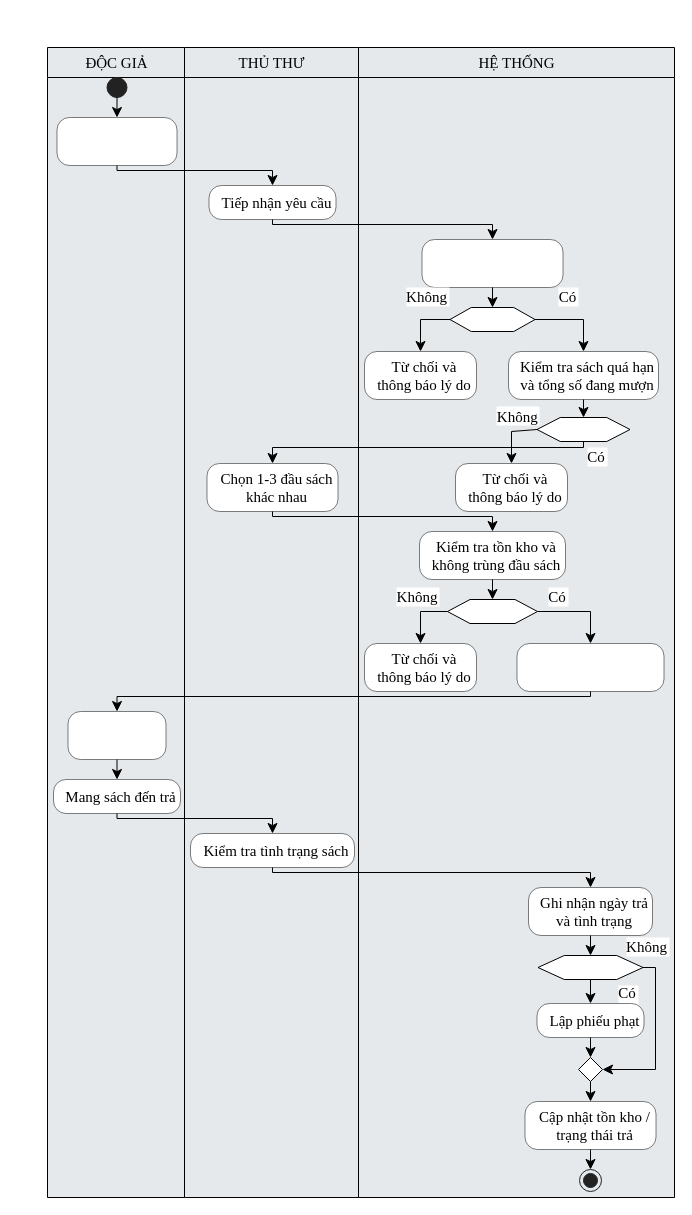
Some shapes in this 692 by 1215 pixel diagram are drawn without their labels. Here are the shapes that lost their labels. From the top down, the centre of each, then its label:
At point (116, 141): "Xuất trình thẻ và thông tin sách".
At point (492, 263): "Kiểm tra thẻ còn hạn và đã đóng lệ phí".
At point (492, 319): "Thẻ hợp lệ?".
At point (583, 429): "Đủ điều kiện?".
At point (492, 611): "Sách hợp lệ?".
At point (590, 667): "Lưu phiếu mượn và giảm số lượng hiện có".
At point (116, 735): "Nhận sách và phiếu mượn".
At point (590, 967): "Trễ / mất / hư?".
